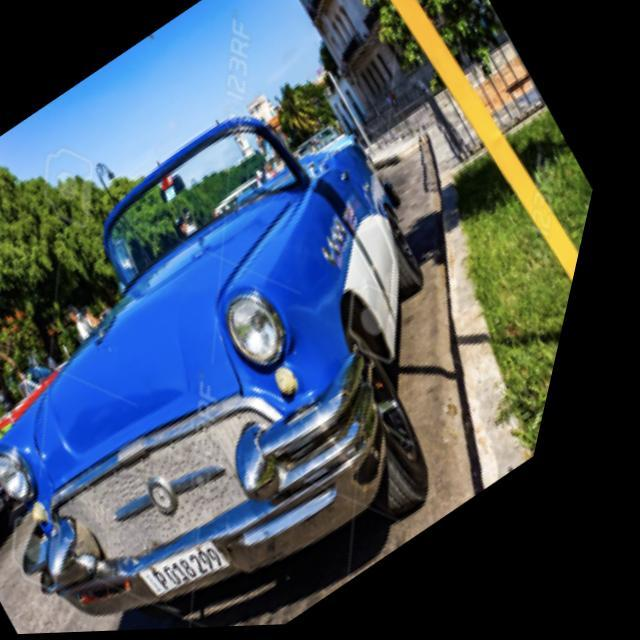license_plate: (150, 518, 269, 619)
